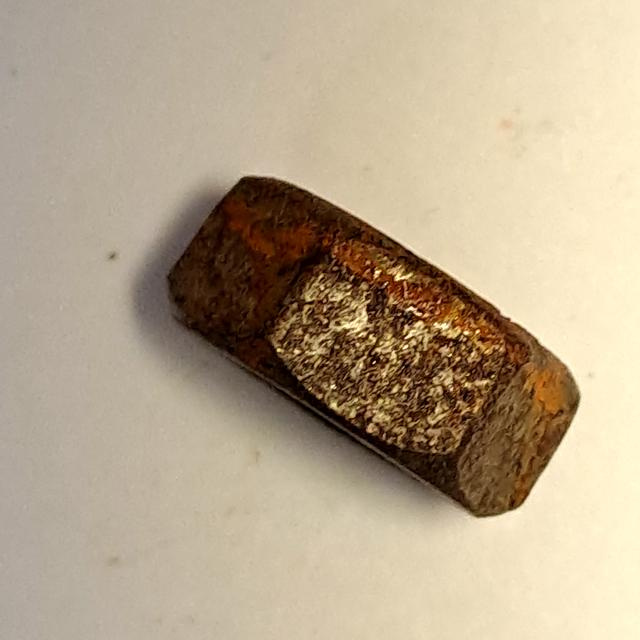Side_Rust: (145, 156, 600, 548)
